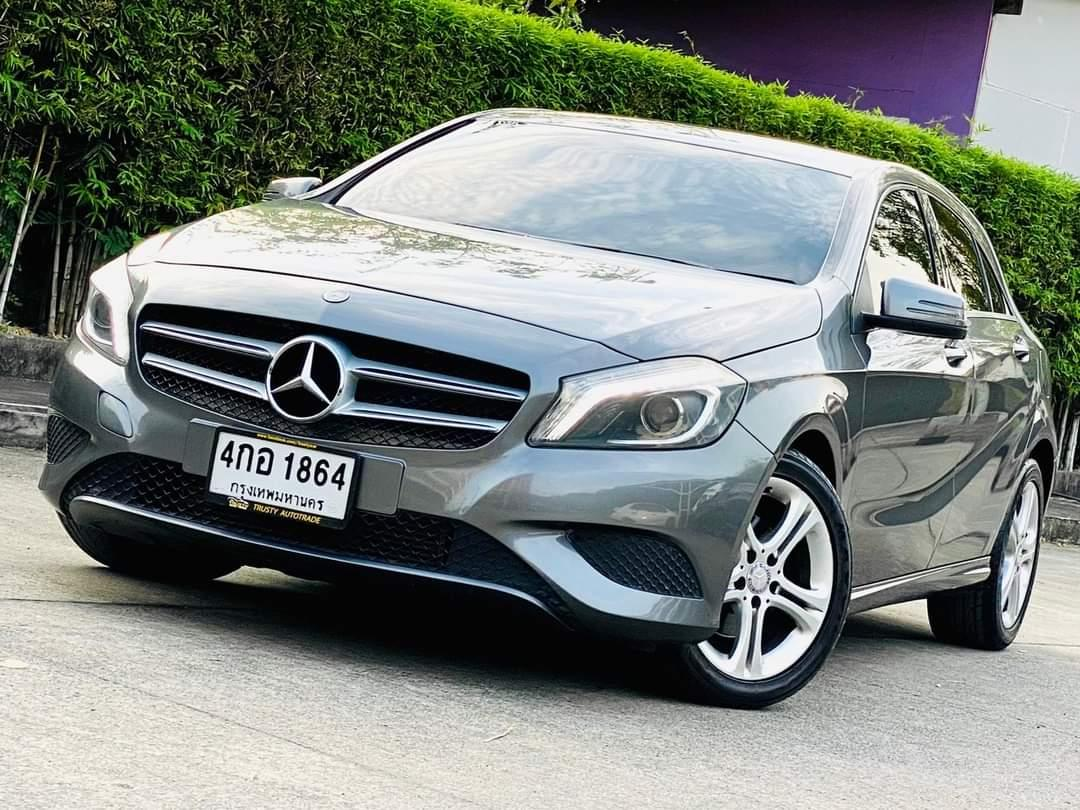license-plate: (198, 422, 368, 533)
